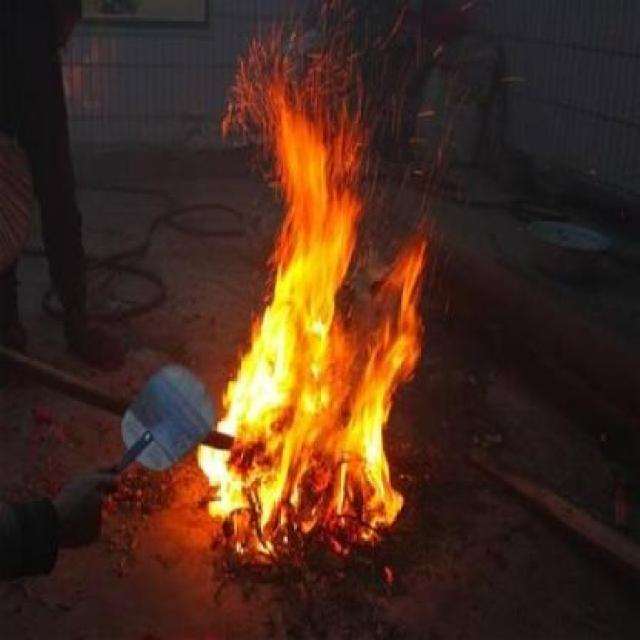Fire: (193, 6, 440, 564)
